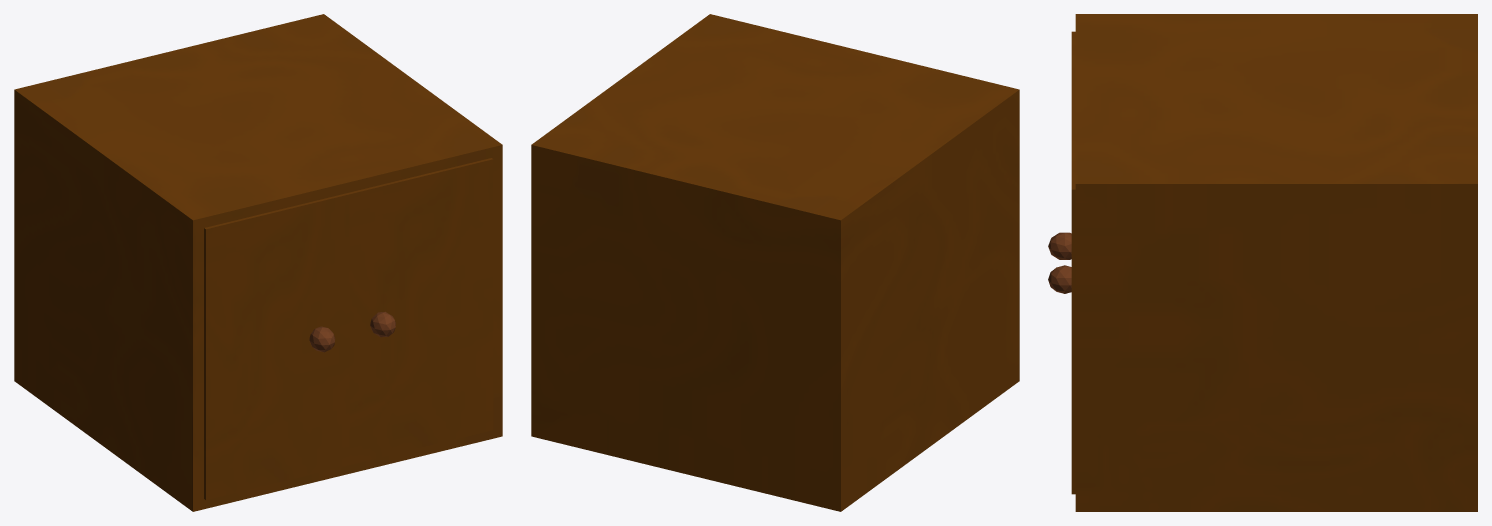
Rendered from KitchenTable_1.fbx.
3 views of the same model, side by side, from view 1: azimuth 30°, elevation 25°; view 2: azimuth 150°, elevation 25°; view 3: azimuth 270°, elevation 25° (orthographic). The views are drawn at different scales.
Parts seen in each view (by area): view 1: Cube.015, Cube.021, Cube.036; view 2: Cube.015; view 3: Cube.015, Cube.036, Cube.021.
Part boxes in pixels (left/top/right/bottom): Cube.015: left=14, top=14, right=502, bottom=511; Cube.021: left=204, top=193, right=349, bottom=499; Cube.036: left=348, top=158, right=493, bottom=464; Cube.015: left=531, top=14, right=1019, bottom=511; Cube.015: left=1075, top=14, right=1477, bottom=511; Cube.036: left=1048, top=110, right=1075, bottom=494; Cube.021: left=1048, top=31, right=1075, bottom=259.
Size of the model in its own units: 100 by 90 by 107.
